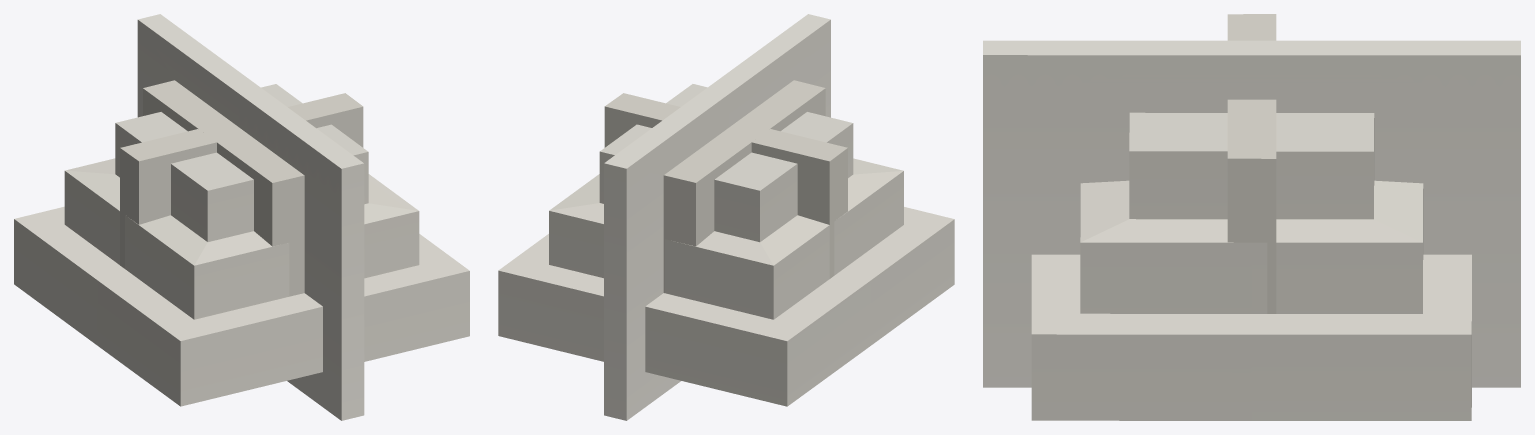
Rendered from EggBreakParts.fbx.
3 renders of one model, left to right at view 1: azimuth 30°, elevation 25°; view 2: azimuth 150°, elevation 25°; view 3: azimuth 270°, elevation 25°, orthographic. The views are drawn at different scales.
Visible parts, largest first — view 1: Egg_Break4, Egg_Break1, Egg_Break2; view 2: Egg_Break4, Egg_Break1, Egg_Break2; view 3: Egg_Break4, Egg_Break1, Egg_Break2.
Boxes of the visible parts, x1=… form: Egg_Break4: x1=14, y1=84, x2=469, y2=406; Egg_Break1: x1=137, y1=14, x2=364, y2=420; Egg_Break2: x1=120, y1=93, x2=363, y2=268; Egg_Break4: x1=498, y1=84, x2=954, y2=406; Egg_Break1: x1=604, y1=14, x2=830, y2=420; Egg_Break2: x1=604, y1=93, x2=847, y2=278; Egg_Break4: x1=1031, y1=112, x2=1471, y2=420; Egg_Break1: x1=983, y1=40, x2=1520, y2=387; Egg_Break2: x1=1227, y1=14, x2=1276, y2=313.
Bounding box in the file's own units: 54.12 × 45.04 × 66.05.
